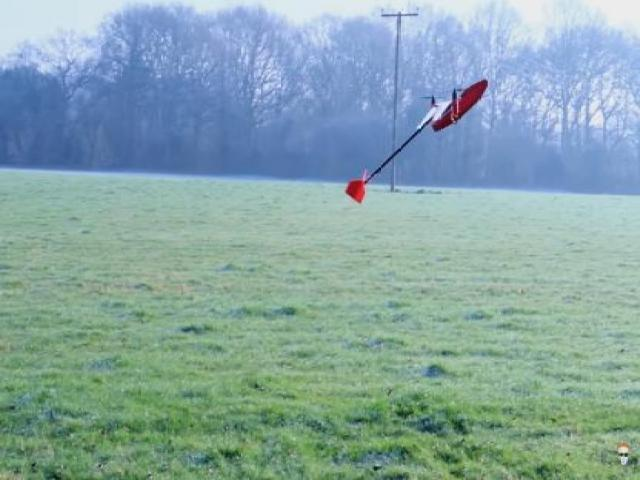uav: (345, 78, 492, 225)
